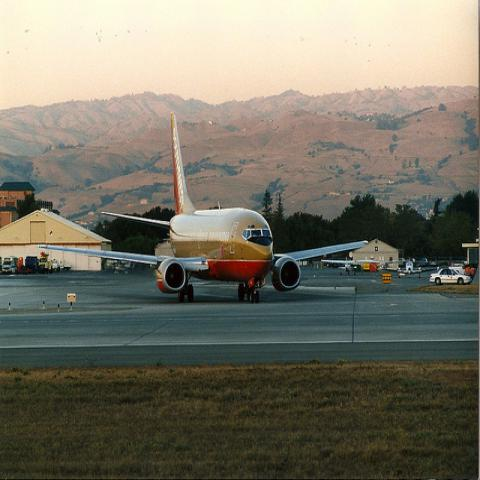car: (429, 268, 472, 286), (452, 264, 466, 276)
truck: (2, 255, 19, 273), (40, 257, 52, 273)
